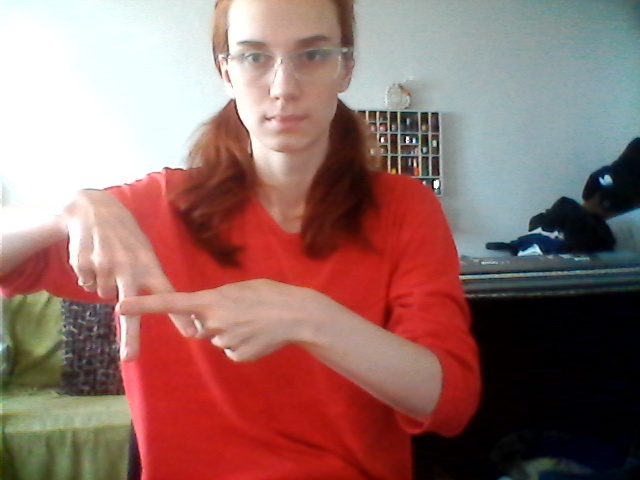a: (66, 256, 256, 376)
